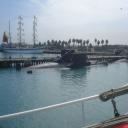submarine: (22, 49, 109, 72)
